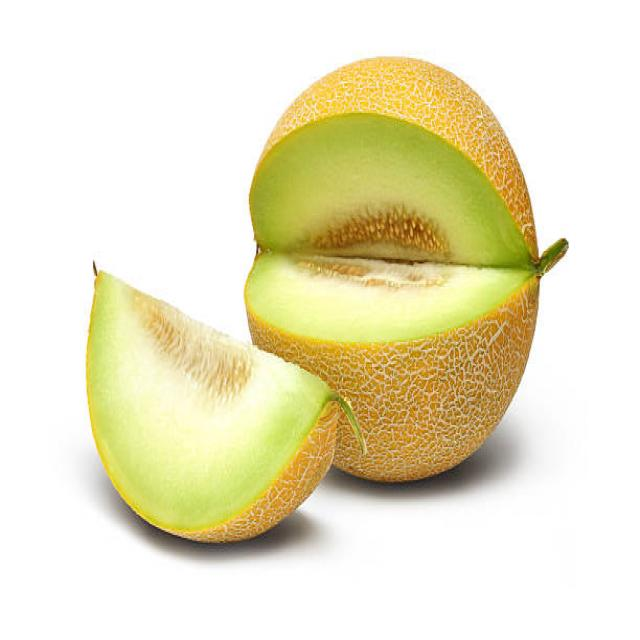Melon: (246, 44, 554, 375), (81, 270, 275, 539)
